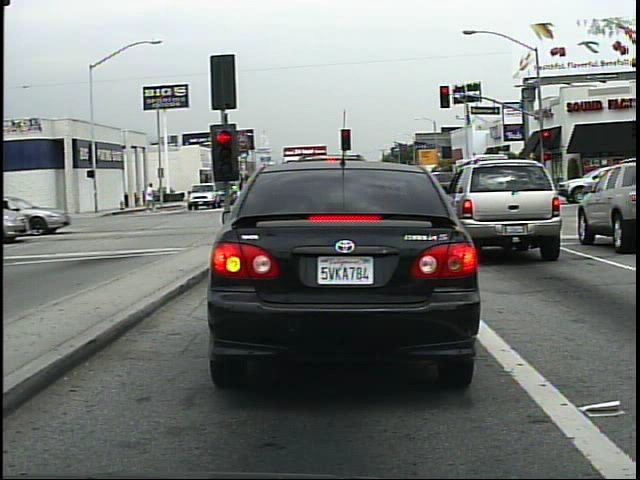person: (140, 180, 161, 217)
